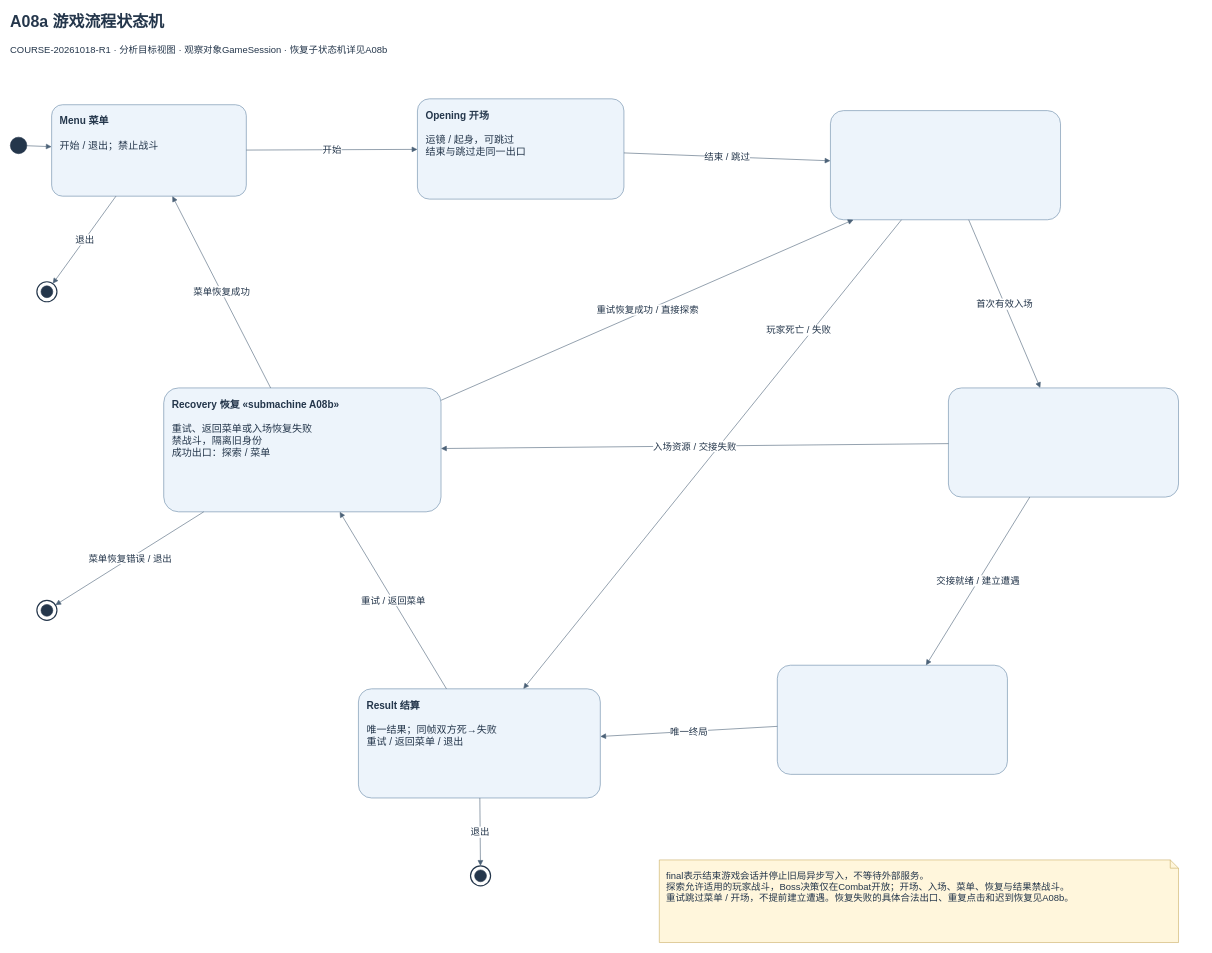
Some shapes in this 1212 by 953 pixel diagram are drawn without their labels. The centre of each missing label's shape, as x and y in pixels:
"BossIntro 入场 战斗输入 / 伤害关闭 Boss不决策，尚无遭遇" belongs at point (1063, 442).
"Combat Boss战斗 开放战斗与有效决策 只接受当前游玩 / 遭遇写入" belongs at point (892, 719).
"Exploration 探索 可操作 / 基础战斗 Boss不决策，尚无遭遇" belongs at point (945, 165).
